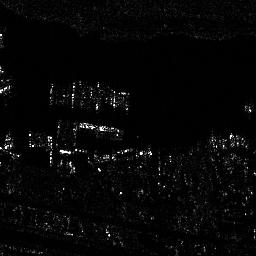ship: (79, 120, 120, 136)
